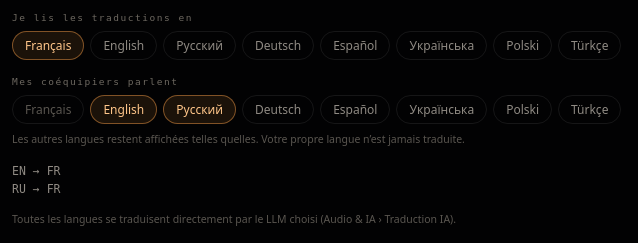
Scenario: language picker › disables the user's own language among the players' and shows the routes
Click the radio button labelled "Русский" at [200, 46], box left=163, top=31, right=236, bottom=60
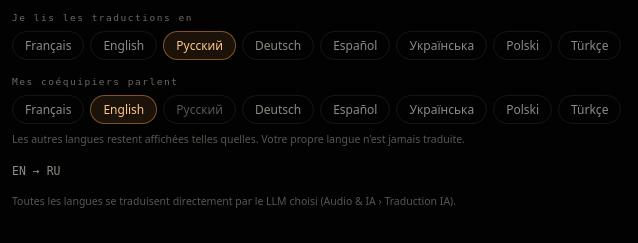
Expected: the checkbox labelled "Русский" is disabled, left=163, top=95, right=236, bottom=124
Click the checkbox labelled "Deutsch" at [278, 110], box left=242, top=95, right=314, bottom=124
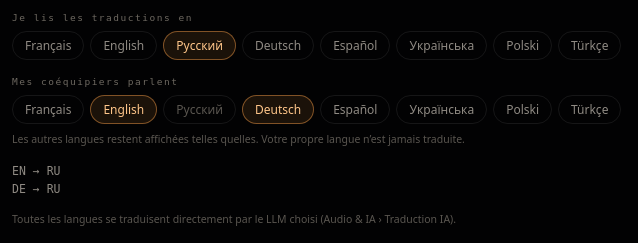
Expected: the element with test id "language-routes" shows "EN → RU", left=12, top=164, right=60, bottom=196
Expected: the element with test id "language-routes" shows "DE → RU", left=12, top=164, right=60, bottom=196
